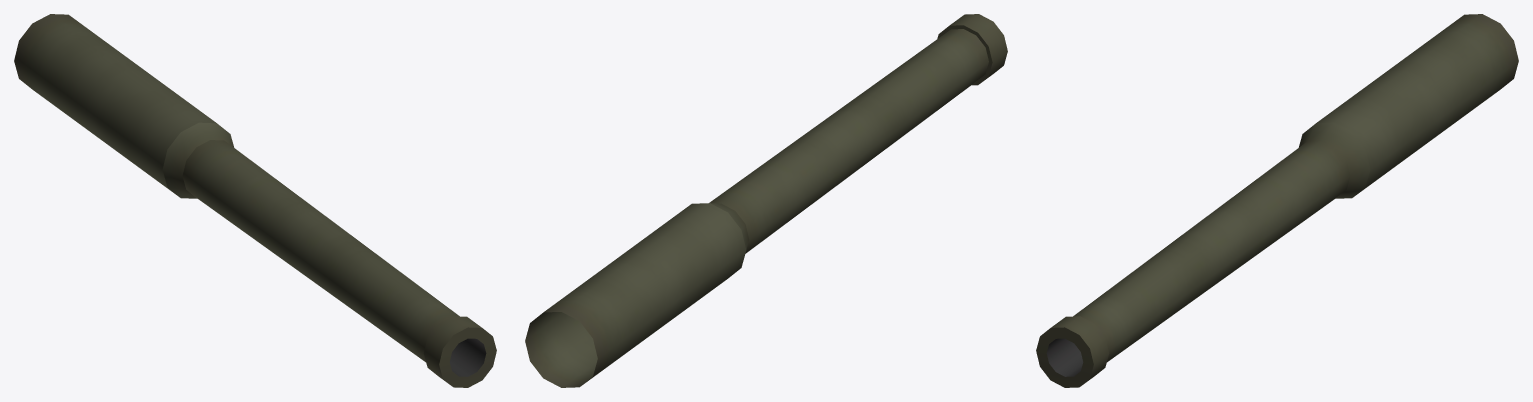
The model's file is T-35_Barrel_Middle.fbx.
3 renders of one model, left to right at view 1: azimuth 30°, elevation 25°; view 2: azimuth 150°, elevation 25°; view 3: azimuth 330°, elevation 25°, orthographic.
Visible parts, largest first — view 1: T-35_Barrel_Middle; view 2: T-35_Barrel_Middle; view 3: T-35_Barrel_Middle.
Part boxes in pixels (x1,y1,x2,y2): T-35_Barrel_Middle: (14,14,496,387); T-35_Barrel_Middle: (525,14,1007,387); T-35_Barrel_Middle: (1036,14,1518,387).
Bounding box in the file's own units: 0.0894 × 0.0894 × 0.8883.
